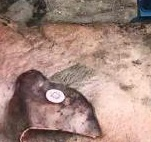text: (38, 78, 71, 109)
